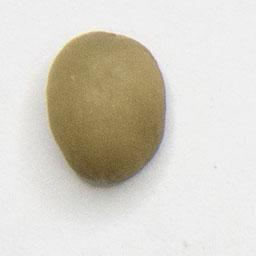premium: (44, 29, 169, 190)
